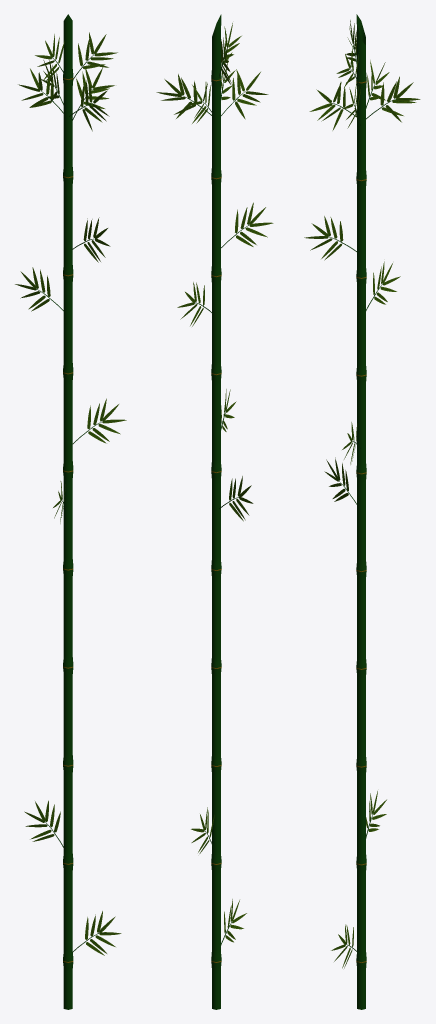
The model's file is BambooEv1.fbx.
3 renders of one model, left to right at view 1: azimuth 90°, elevation 25°; view 2: azimuth 150°, elevation 25°; view 3: azimuth 330°, elevation 25°, orthographic.
Parts seen in each view (by area): view 1: BambooE; view 2: BambooE; view 3: BambooE.
Boxes of the visible parts, <box> form: BambooE: <box>15,14,126,1009</box>; BambooE: <box>156,14,273,1009</box>; BambooE: <box>304,14,420,1009</box>.
Bounding box in the file's own units: 99 × 1011 × 104.
